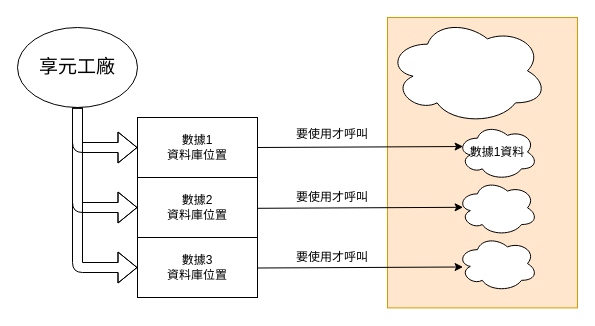
The diagram is 595 pixels wide and 326 high, and some of its shapes have lost their labels. Each missing label, with the box of its shape:
具體數據 例:3D模型、貼圖...: (386, 16, 548, 124)
數據2資料: (456, 179, 538, 236)
數據3資料: (456, 235, 538, 292)
